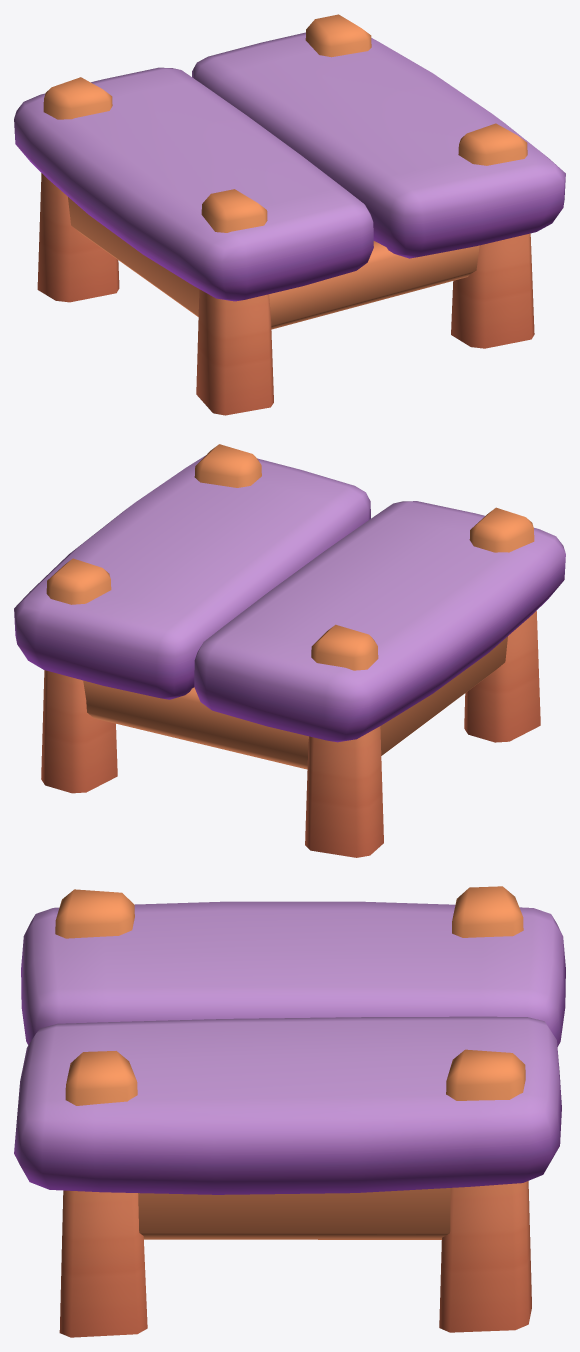
The model's file is Table_01.glb.
The picture shows the model from 3 angles, top to bottom: view 1: azimuth 30°, elevation 25°; view 2: azimuth 150°, elevation 25°; view 3: azimuth 270°, elevation 25°; orthographic projection. The views are drawn at different scales.
Visible parts, largest first — view 1: Table_01; view 2: Table_01; view 3: Table_01.
Part boxes in pixels (x1=…): Table_01: x1=14, y1=14, x2=565, y2=415; Table_01: x1=14, y1=444, x2=565, y2=857; Table_01: x1=14, y1=886, x2=565, y2=1337.
Bounding box in the file's own units: 4.5 × 2.3 × 4.5.
Materials: 1 (1 with a texture image).
